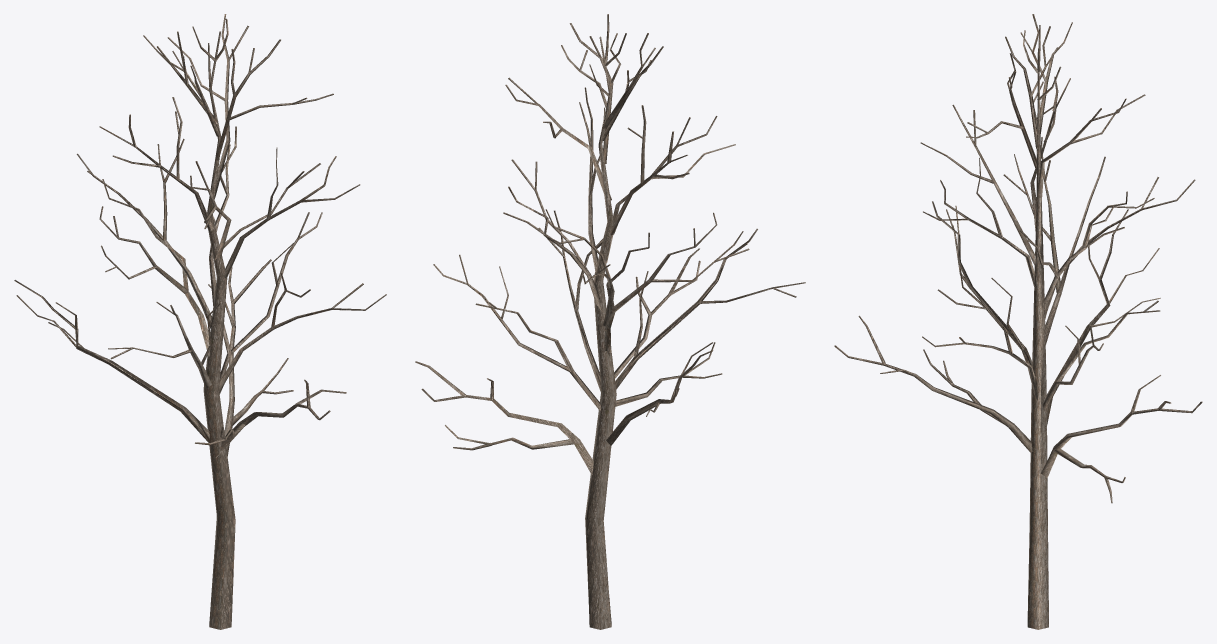
The model's file is Arbol_tronco.obj.
3 renders of one model, left to right at view 1: azimuth 30°, elevation 25°; view 2: azimuth 150°, elevation 25°; view 3: azimuth 270°, elevation 25°, orthographic. The views are drawn at different scales.
Visible parts, largest first — view 1: Arbol_tronco; view 2: Arbol_tronco; view 3: Arbol_tronco.
Part boxes in pixels (<box>): Arbol_tronco: <box>14,14,386,629</box>; Arbol_tronco: <box>415,14,805,629</box>; Arbol_tronco: <box>834,14,1202,629</box>.
Size of the model in its own units: 3.73 by 7.38 by 4.15.
Materials: 1 (1 with a texture image).
